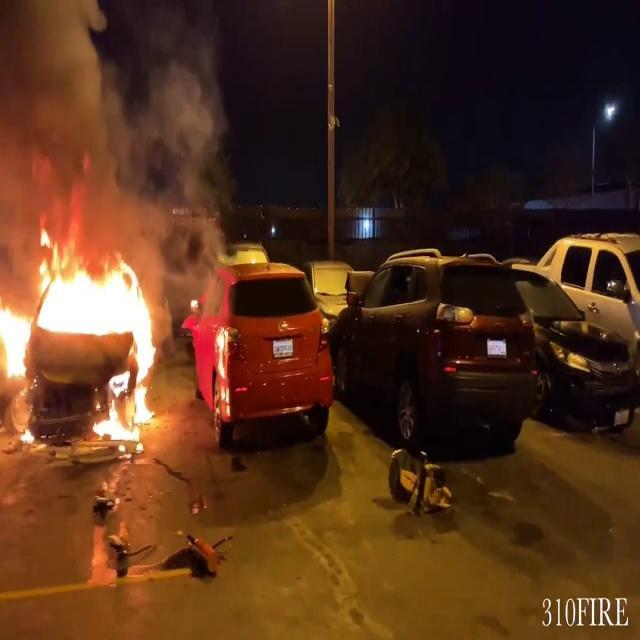Fire: (0, 224, 166, 436)
Smoke: (0, 0, 243, 258)
